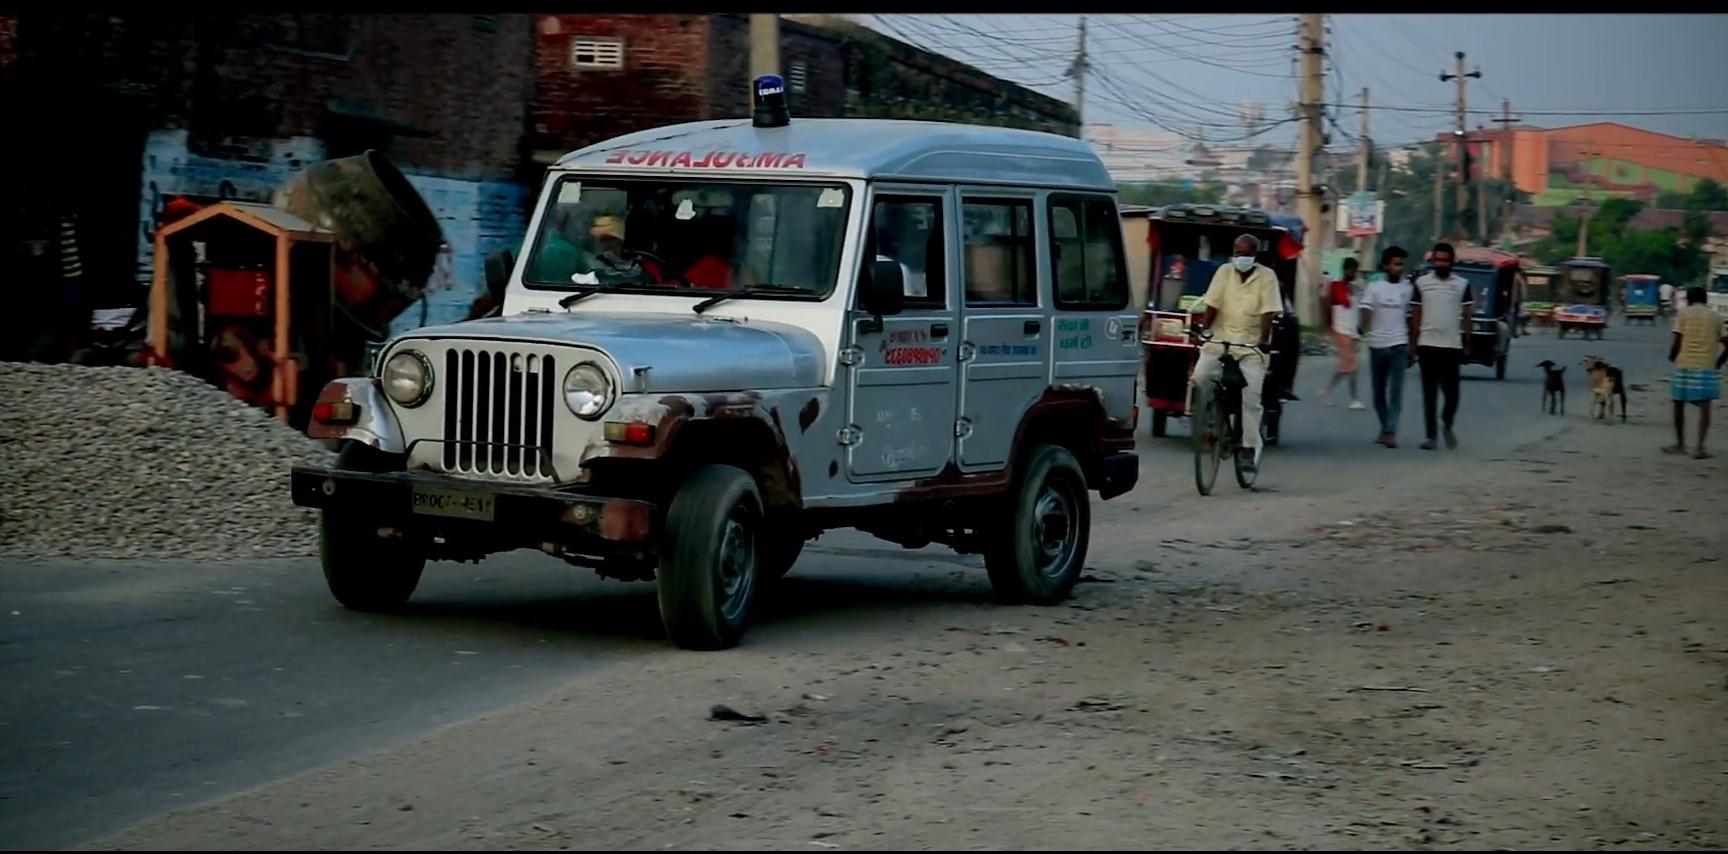ambulance: (282, 67, 1147, 659)
